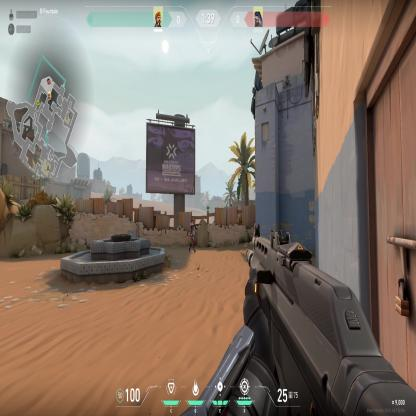enemy: (189, 219, 196, 253)
